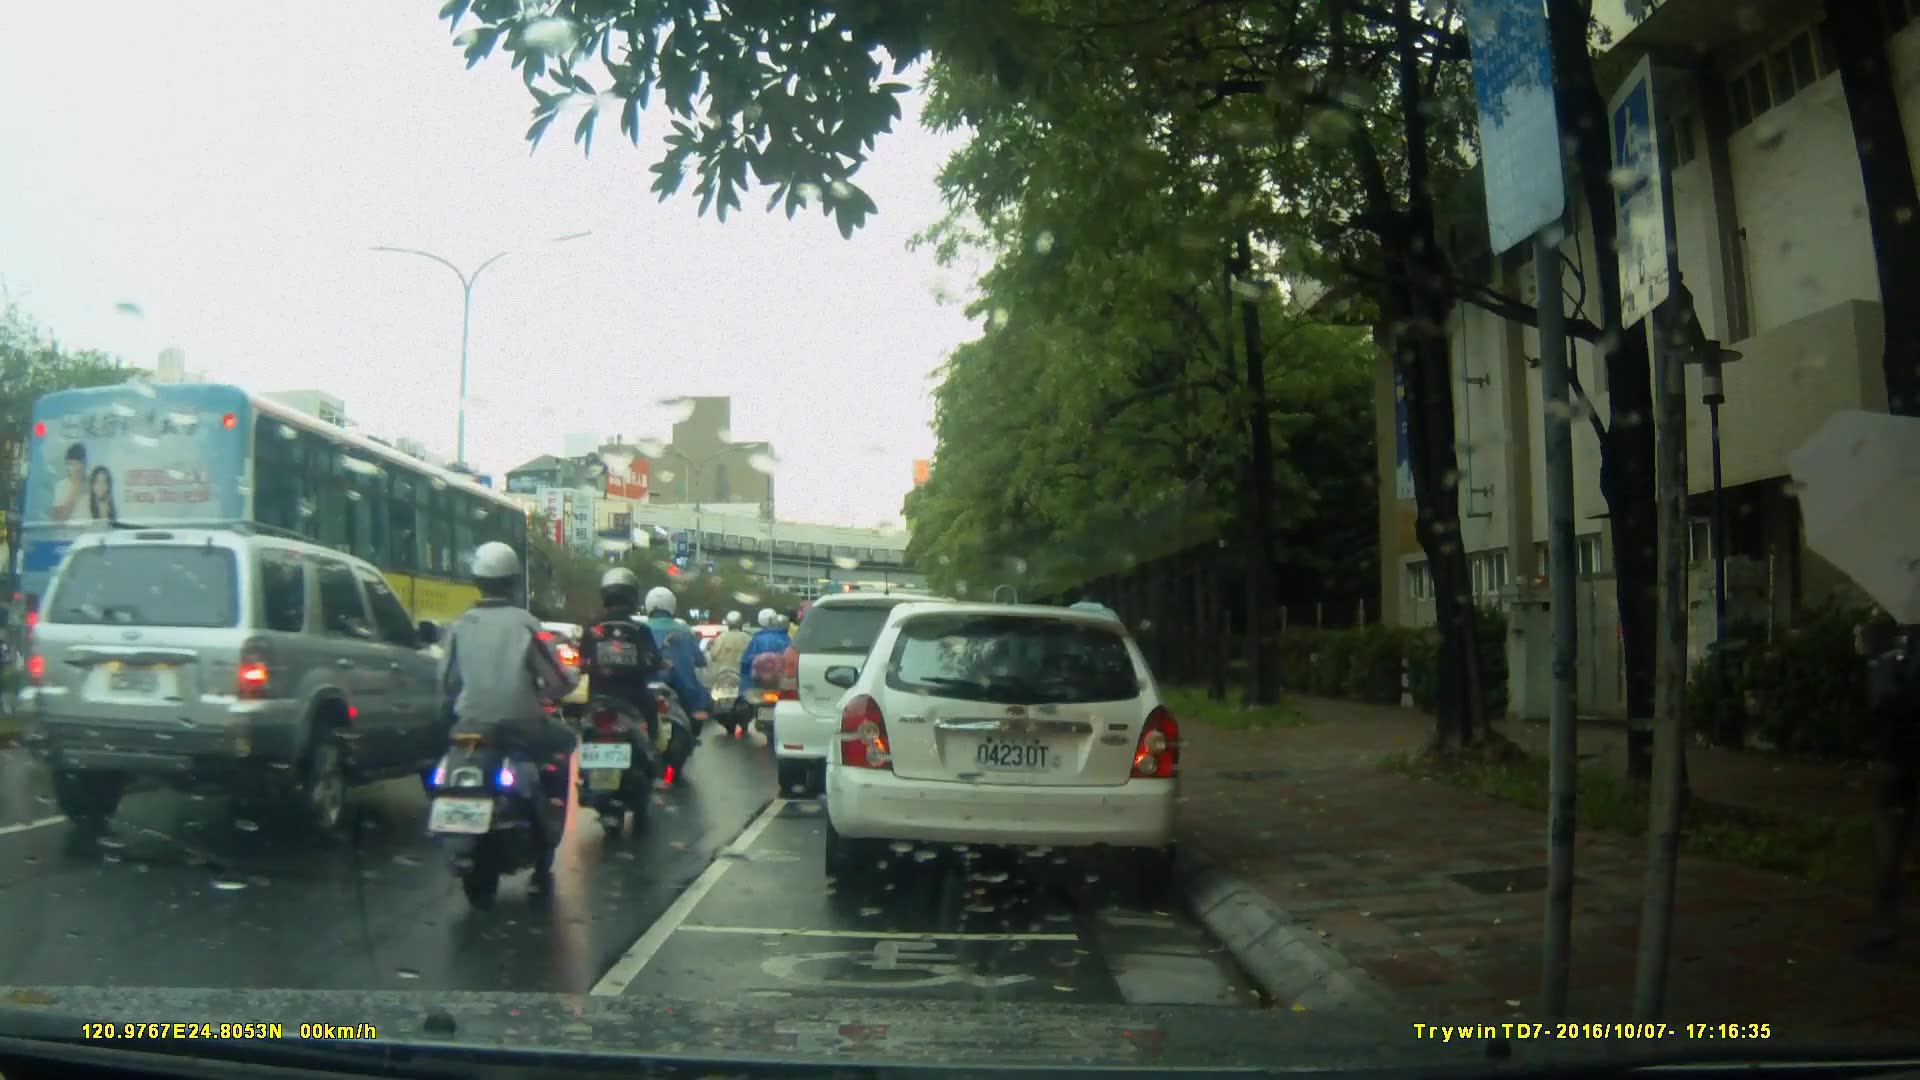rider: (420, 538, 586, 915), (579, 565, 676, 835), (627, 583, 715, 778), (743, 611, 811, 734), (703, 607, 762, 733)
vehicle: (24, 381, 537, 765), (12, 521, 459, 845), (835, 594, 1194, 898), (776, 590, 1026, 784)
